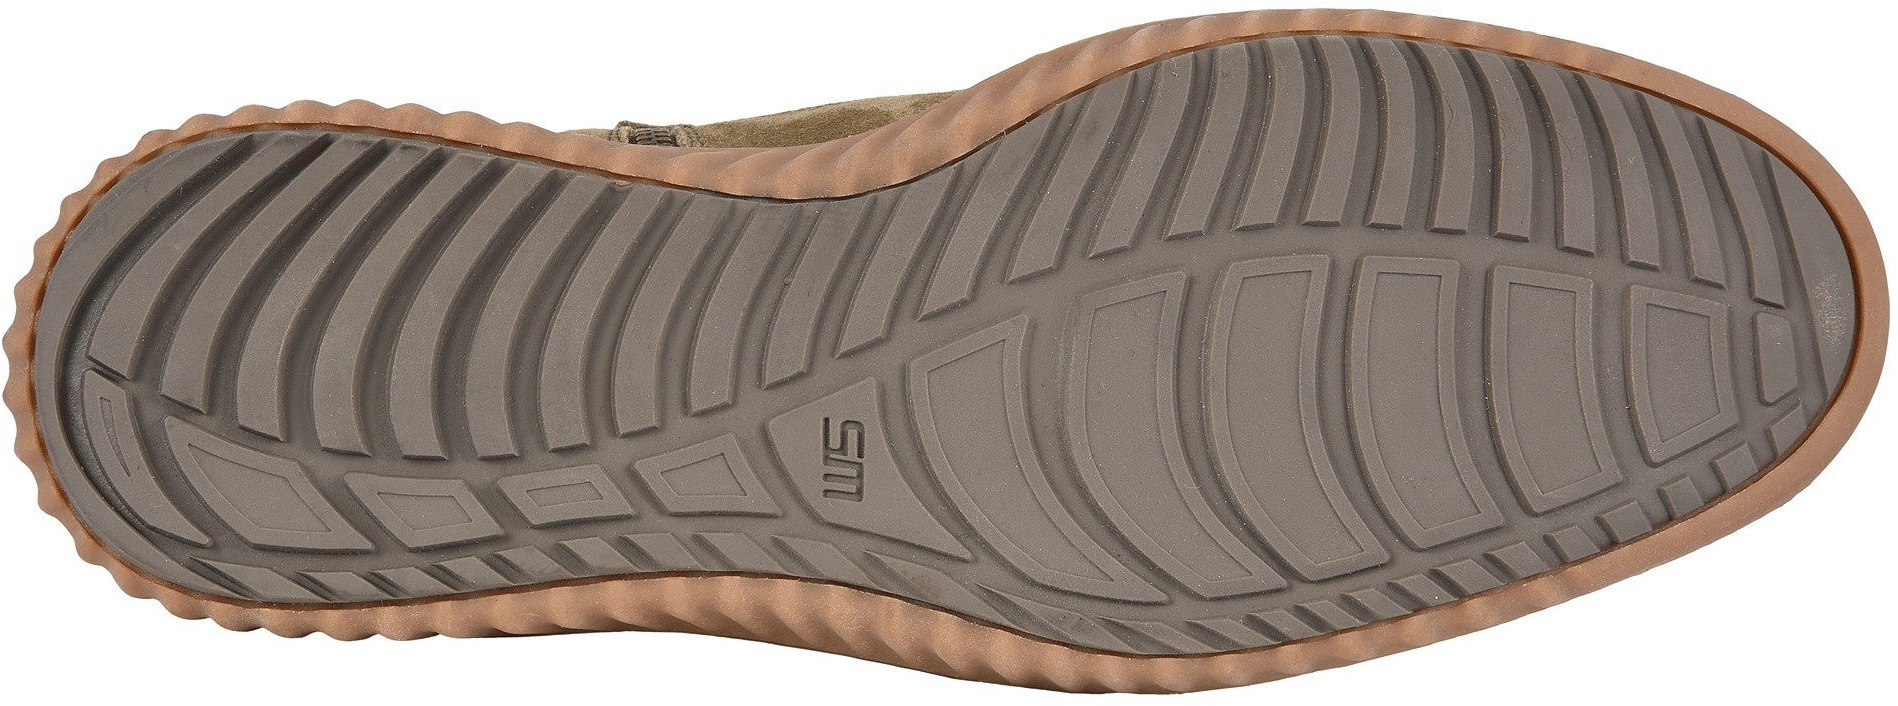text: (810, 409, 878, 520)
